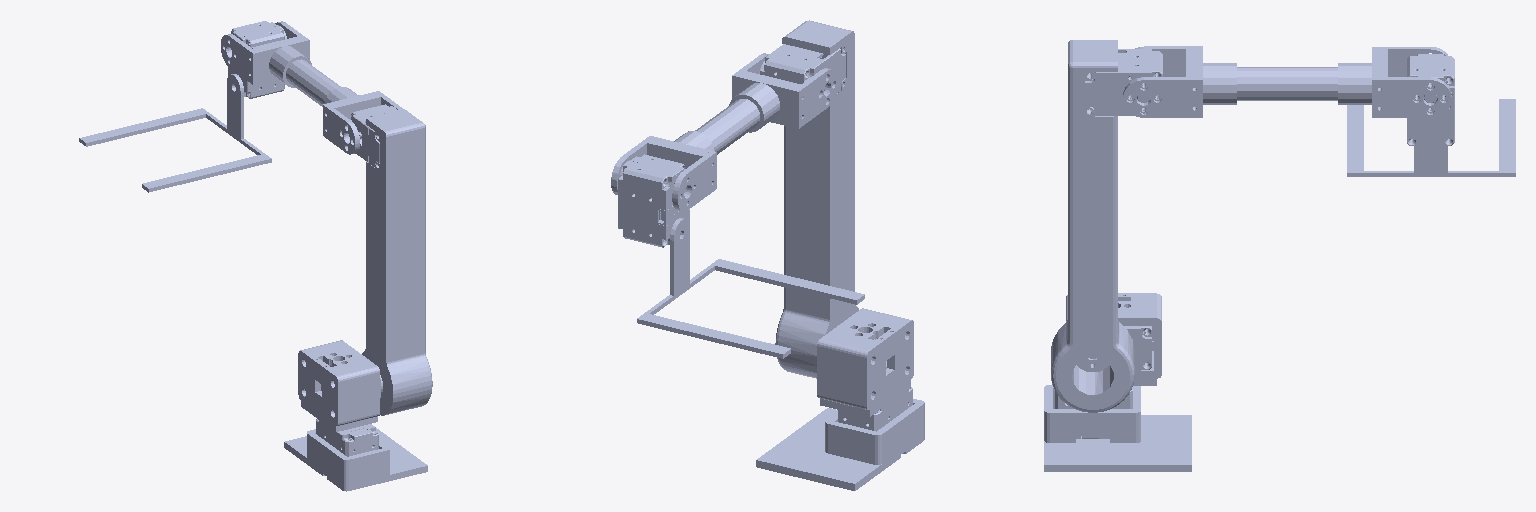
The robot description file, URDF, robot "d2c_robot_description":
<?xml version="1.0" encoding="utf-8"?>
<!-- This URDF was automatically created by SolidWorks to URDF Exporter! Originally created by [author] ([email redacted]) 
     Commit Version: 1.6.0-1-g15f4949  Build Version: 1.6.7594.29634
     For more information, please see http://wiki.ros.org/sw_urdf_exporter -->
<robot
  name="d2c_robot_description">
  <link
    name="base_link">
    <inertial>
      <origin
        xyz="-0.011095 -0.010324 0.014633"
        rpy="0 0 0" />
      <mass
        value="0.087818" />
      <inertia
        ixx="4.193E-05"
        ixy="-2.3735E-06"
        ixz="2.1385E-06"
        iyy="2.6929E-05"
        iyz="1.8617E-06"
        izz="5.68E-05" />
    </inertial>
    <visual>
      <origin
        xyz="0 0 0"
        rpy="0 0 0" />
      <geometry>
        <mesh
          filename="package://d2c_robot_description/meshes/base_link.STL" />
      </geometry>
      <material
        name="">
        <color
          rgba="0.79216 0.81961 0.93333 1" />
      </material>
    </visual>
    <collision>
      <origin
        xyz="0 0 0"
        rpy="0 0 0" />
      <geometry>
        <mesh
          filename="package://d2c_robot_description/meshes/base_link.STL" />
      </geometry>
    </collision>
  </link>
  <link
    name="link1">
    <inertial>
      <origin
        xyz="0.0016907 -0.00029083 0.020821"
        rpy="0 0 0" />
      <mass
        value="0.084203" />
      <inertia
        ixx="3.5148E-05"
        ixy="2.5544E-07"
        ixz="3.0439E-07"
        iyy="2.1191E-05"
        iyz="-4.4082E-09"
        izz="3.1481E-05" />
    </inertial>
    <visual>
      <origin
        xyz="0 0 0"
        rpy="0 0 0" />
      <geometry>
        <mesh
          filename="package://d2c_robot_description/meshes/link1.STL" />
      </geometry>
      <material
        name="">
        <color
          rgba="0.79216 0.81961 0.93333 1" />
      </material>
    </visual>
    <collision>
      <origin
        xyz="0 0 0"
        rpy="0 0 0" />
      <geometry>
        <mesh
          filename="package://d2c_robot_description/meshes/link1.STL" />
      </geometry>
    </collision>
  </link>
  <joint
    name="joint1"
    type="revolute">
    <origin
      xyz="-0.016486 -0.0032999 0.0429"
      rpy="0 0 0" />
    <parent
      link="base_link" />
    <child
      link="link1" />
    <axis
      xyz="0 0 -1" />
    <limit
      lower="3.14"
      upper="-3.14"
      effort="0"
      velocity="0" />
  </joint>
  <link
    name="link2">
    <inertial>
      <origin
        xyz="0.015137 0.0025994 0.097393"
        rpy="0 0 0" />
      <mass
        value="0.25649" />
      <inertia
        ixx="0.00086048"
        ixy="-2.5703E-07"
        ixz="-1.0049E-06"
        iyy="0.00085527"
        iyz="1.0286E-05"
        izz="5.3981E-05" />
    </inertial>
    <visual>
      <origin
        xyz="0 0 0"
        rpy="0 0 0" />
      <geometry>
        <mesh
          filename="package://d2c_robot_description/meshes/link2.STL" />
      </geometry>
      <material
        name="">
        <color
          rgba="0.79216 0.81961 0.93333 1" />
      </material>
    </visual>
    <collision>
      <origin
        xyz="0 0 0"
        rpy="0 0 0" />
      <geometry>
        <mesh
          filename="package://d2c_robot_description/meshes/link2.STL" />
      </geometry>
    </collision>
  </link>
  <joint
    name="joint2"
    type="revolute">
    <origin
      xyz="0.0254 -0.0125 0.02335"
      rpy="0 0 0" />
    <parent
      link="link1" />
    <child
      link="link2" />
    <axis
      xyz="-1 0 0" />
    <limit
      lower="3.14"
      upper="-3.14"
      effort="0"
      velocity="0" />
  </joint>
  <link
    name="link3">
    <inertial>
      <origin
        xyz="-0.020349 0.085 -3.562E-05"
        rpy="0 0 0" />
      <mass
        value="0.073185" />
      <inertia
        ixx="0.0001408"
        ixy="2.7755E-09"
        ixz="-4.2596E-09"
        iyy="9.6002E-06"
        iyz="6.0832E-20"
        izz="0.00014425" />
    </inertial>
    <visual>
      <origin
        xyz="0 0 0"
        rpy="0 0 0" />
      <geometry>
        <mesh
          filename="package://d2c_robot_description/meshes/link3.STL" />
      </geometry>
      <material
        name="">
        <color
          rgba="0.79216 0.81961 0.93333 1" />
      </material>
    </visual>
    <collision>
      <origin
        xyz="0 0 0"
        rpy="0 0 0" />
      <geometry>
        <mesh
          filename="package://d2c_robot_description/meshes/link3.STL" />
      </geometry>
    </collision>
  </link>
  <joint
    name="joint3"
    type="revolute">
    <origin
      xyz="0.036 0.03025 0.18425"
      rpy="0 0 0" />
    <parent
      link="link2" />
    <child
      link="link3" />
    <axis
      xyz="1 0 0" />
    <limit
      lower="3.14"
      upper="-3.14"
      effort="0"
      velocity="0" />
  </joint>
  <link
    name="link4">
    <inertial>
      <origin
        xyz="0.013275 8.726E-05 -0.021127"
        rpy="0 0 0" />
      <mass
        value="0.05126" />
      <inertia
        ixx="2.4437E-05"
        ixy="5.2455E-09"
        ixz="-2.2472E-06"
        iyy="2.3336E-05"
        iyz="4.4082E-09"
        izz="3.0259E-05" />
    </inertial>
    <visual>
      <origin
        xyz="0 0 0"
        rpy="0 0 0" />
      <geometry>
        <mesh
          filename="package://d2c_robot_description/meshes/link4.STL" />
      </geometry>
      <material
        name="">
        <color
          rgba="0.79216 0.81961 0.93333 1" />
      </material>
    </visual>
    <collision>
      <origin
        xyz="0 0 0"
        rpy="0 0 0" />
      <geometry>
        <mesh
          filename="package://d2c_robot_description/meshes/link4.STL" />
      </geometry>
    </collision>
  </link>
  <joint
    name="joint4"
    type="revolute">
    <origin
      xyz="-0.0429 0.17 -6E-05"
      rpy="0 0 0" />
    <parent
      link="link3" />
    <child
      link="link4" />
    <axis
      xyz="-1 0 -0.0013953" />
    <limit
      lower="3.14"
      upper="-3.14"
      effort="0"
      velocity="0" />
  </joint>
</robot>

--- What the picture shows (computed from the rendered views, not written in the file) ---
The picture shows the robot from 3 angles, left to right: view 1: azimuth 30°, elevation 25°; view 2: azimuth 150°, elevation 25°; view 3: azimuth 270°, elevation 25°; orthographic projection.
Model d2c_robot_description with 5 links and 4 joints (4 revolute), rooted at base_link, posed all joints at 0.
Links seen in each view (by area): view 1: link2, link3, link1, base_link, link4; view 2: link2, link4, link3, base_link, link1; view 3: link2, link3, base_link, link4, link1.
Link boxes in pixels (x1=…): link2: x1=349, y1=104, x2=432, y2=415; link3: x1=221, y1=21, x2=402, y2=154; link1: x1=298, y1=340, x2=382, y2=431; base_link: x1=284, y1=419, x2=427, y2=491; link4: x1=79, y1=21, x2=286, y2=192; link2: x1=759, y1=20, x2=858, y2=378; link4: x1=618, y1=154, x2=864, y2=358; link3: x1=611, y1=53, x2=837, y2=211; base_link: x1=756, y1=387, x2=924, y2=490; link1: x1=817, y1=308, x2=913, y2=416; link2: x1=1051, y1=40, x2=1162, y2=412; link3: x1=1123, y1=46, x2=1450, y2=117; base_link: x1=1044, y1=385, x2=1191, y2=471; link4: x1=1347, y1=54, x2=1515, y2=176; link1: x1=1066, y1=293, x2=1161, y2=385.
Size in the robot's own frame: 0.143 by 0.2794 by 0.2708 metres.
Meshes: 5 distinct files referenced, 5 mesh visuals loaded (5 binary STL).